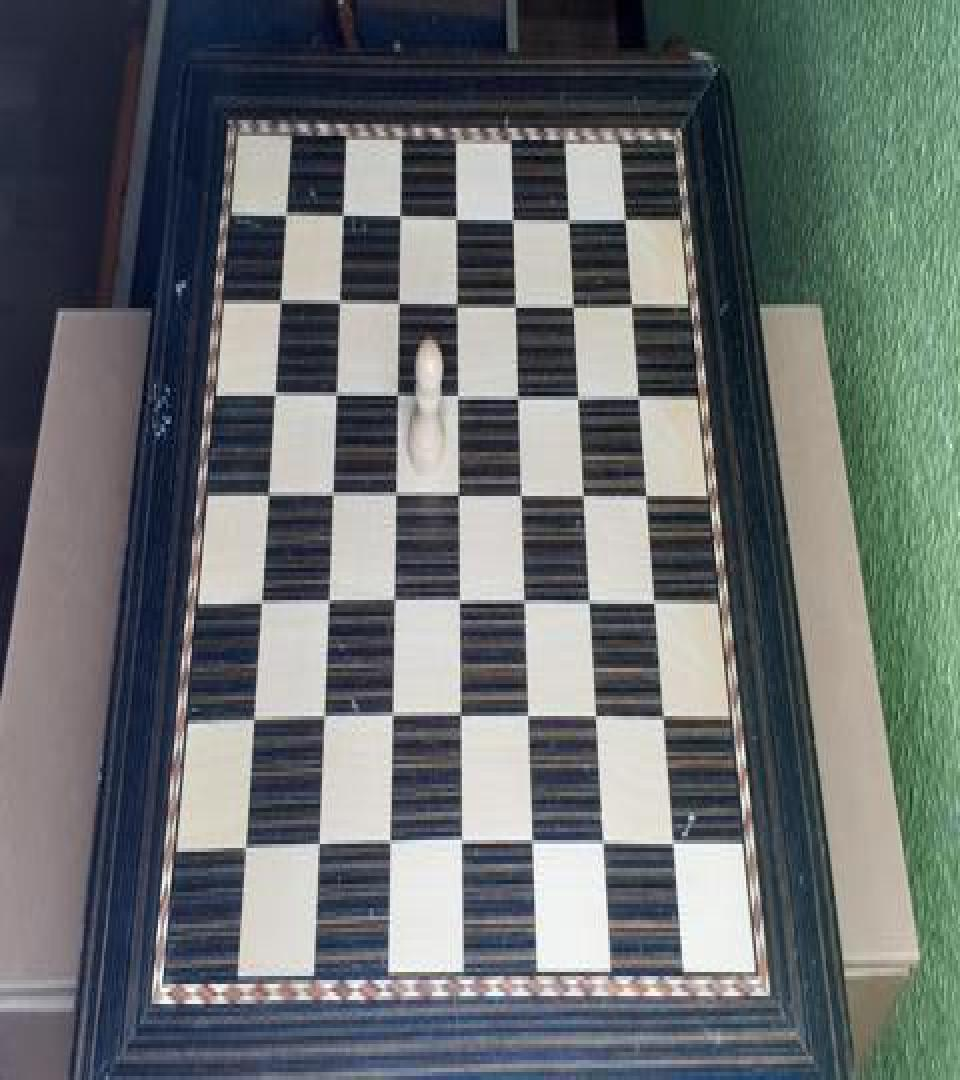xcorner: (275, 188, 293, 224), (269, 276, 287, 312), (263, 370, 281, 406), (257, 472, 275, 508), (250, 582, 268, 618), (243, 702, 261, 738), (234, 832, 252, 868), (333, 188, 351, 224), (329, 276, 347, 312), (326, 372, 344, 408), (322, 474, 340, 510), (317, 582, 335, 618), (313, 702, 331, 738), (308, 830, 326, 866), (391, 190, 409, 226), (389, 278, 407, 314), (388, 372, 406, 408), (386, 474, 404, 510), (384, 584, 402, 620), (382, 702, 400, 738), (380, 830, 398, 866), (448, 190, 466, 226), (449, 278, 467, 314), (449, 372, 467, 408), (450, 474, 468, 510), (451, 584, 469, 620), (452, 702, 470, 738), (453, 830, 471, 866), (505, 192, 523, 228), (508, 280, 526, 316), (511, 374, 529, 410), (514, 474, 532, 510), (517, 584, 535, 620), (521, 702, 539, 738), (525, 830, 543, 866), (562, 192, 580, 228), (567, 280, 585, 316), (572, 374, 590, 410), (577, 476, 595, 512), (583, 584, 601, 620), (589, 702, 607, 738), (596, 830, 614, 866), (619, 194, 637, 230), (626, 282, 644, 318), (633, 374, 651, 410), (641, 476, 659, 512), (649, 584, 667, 620), (658, 702, 676, 738), (667, 830, 685, 866)
